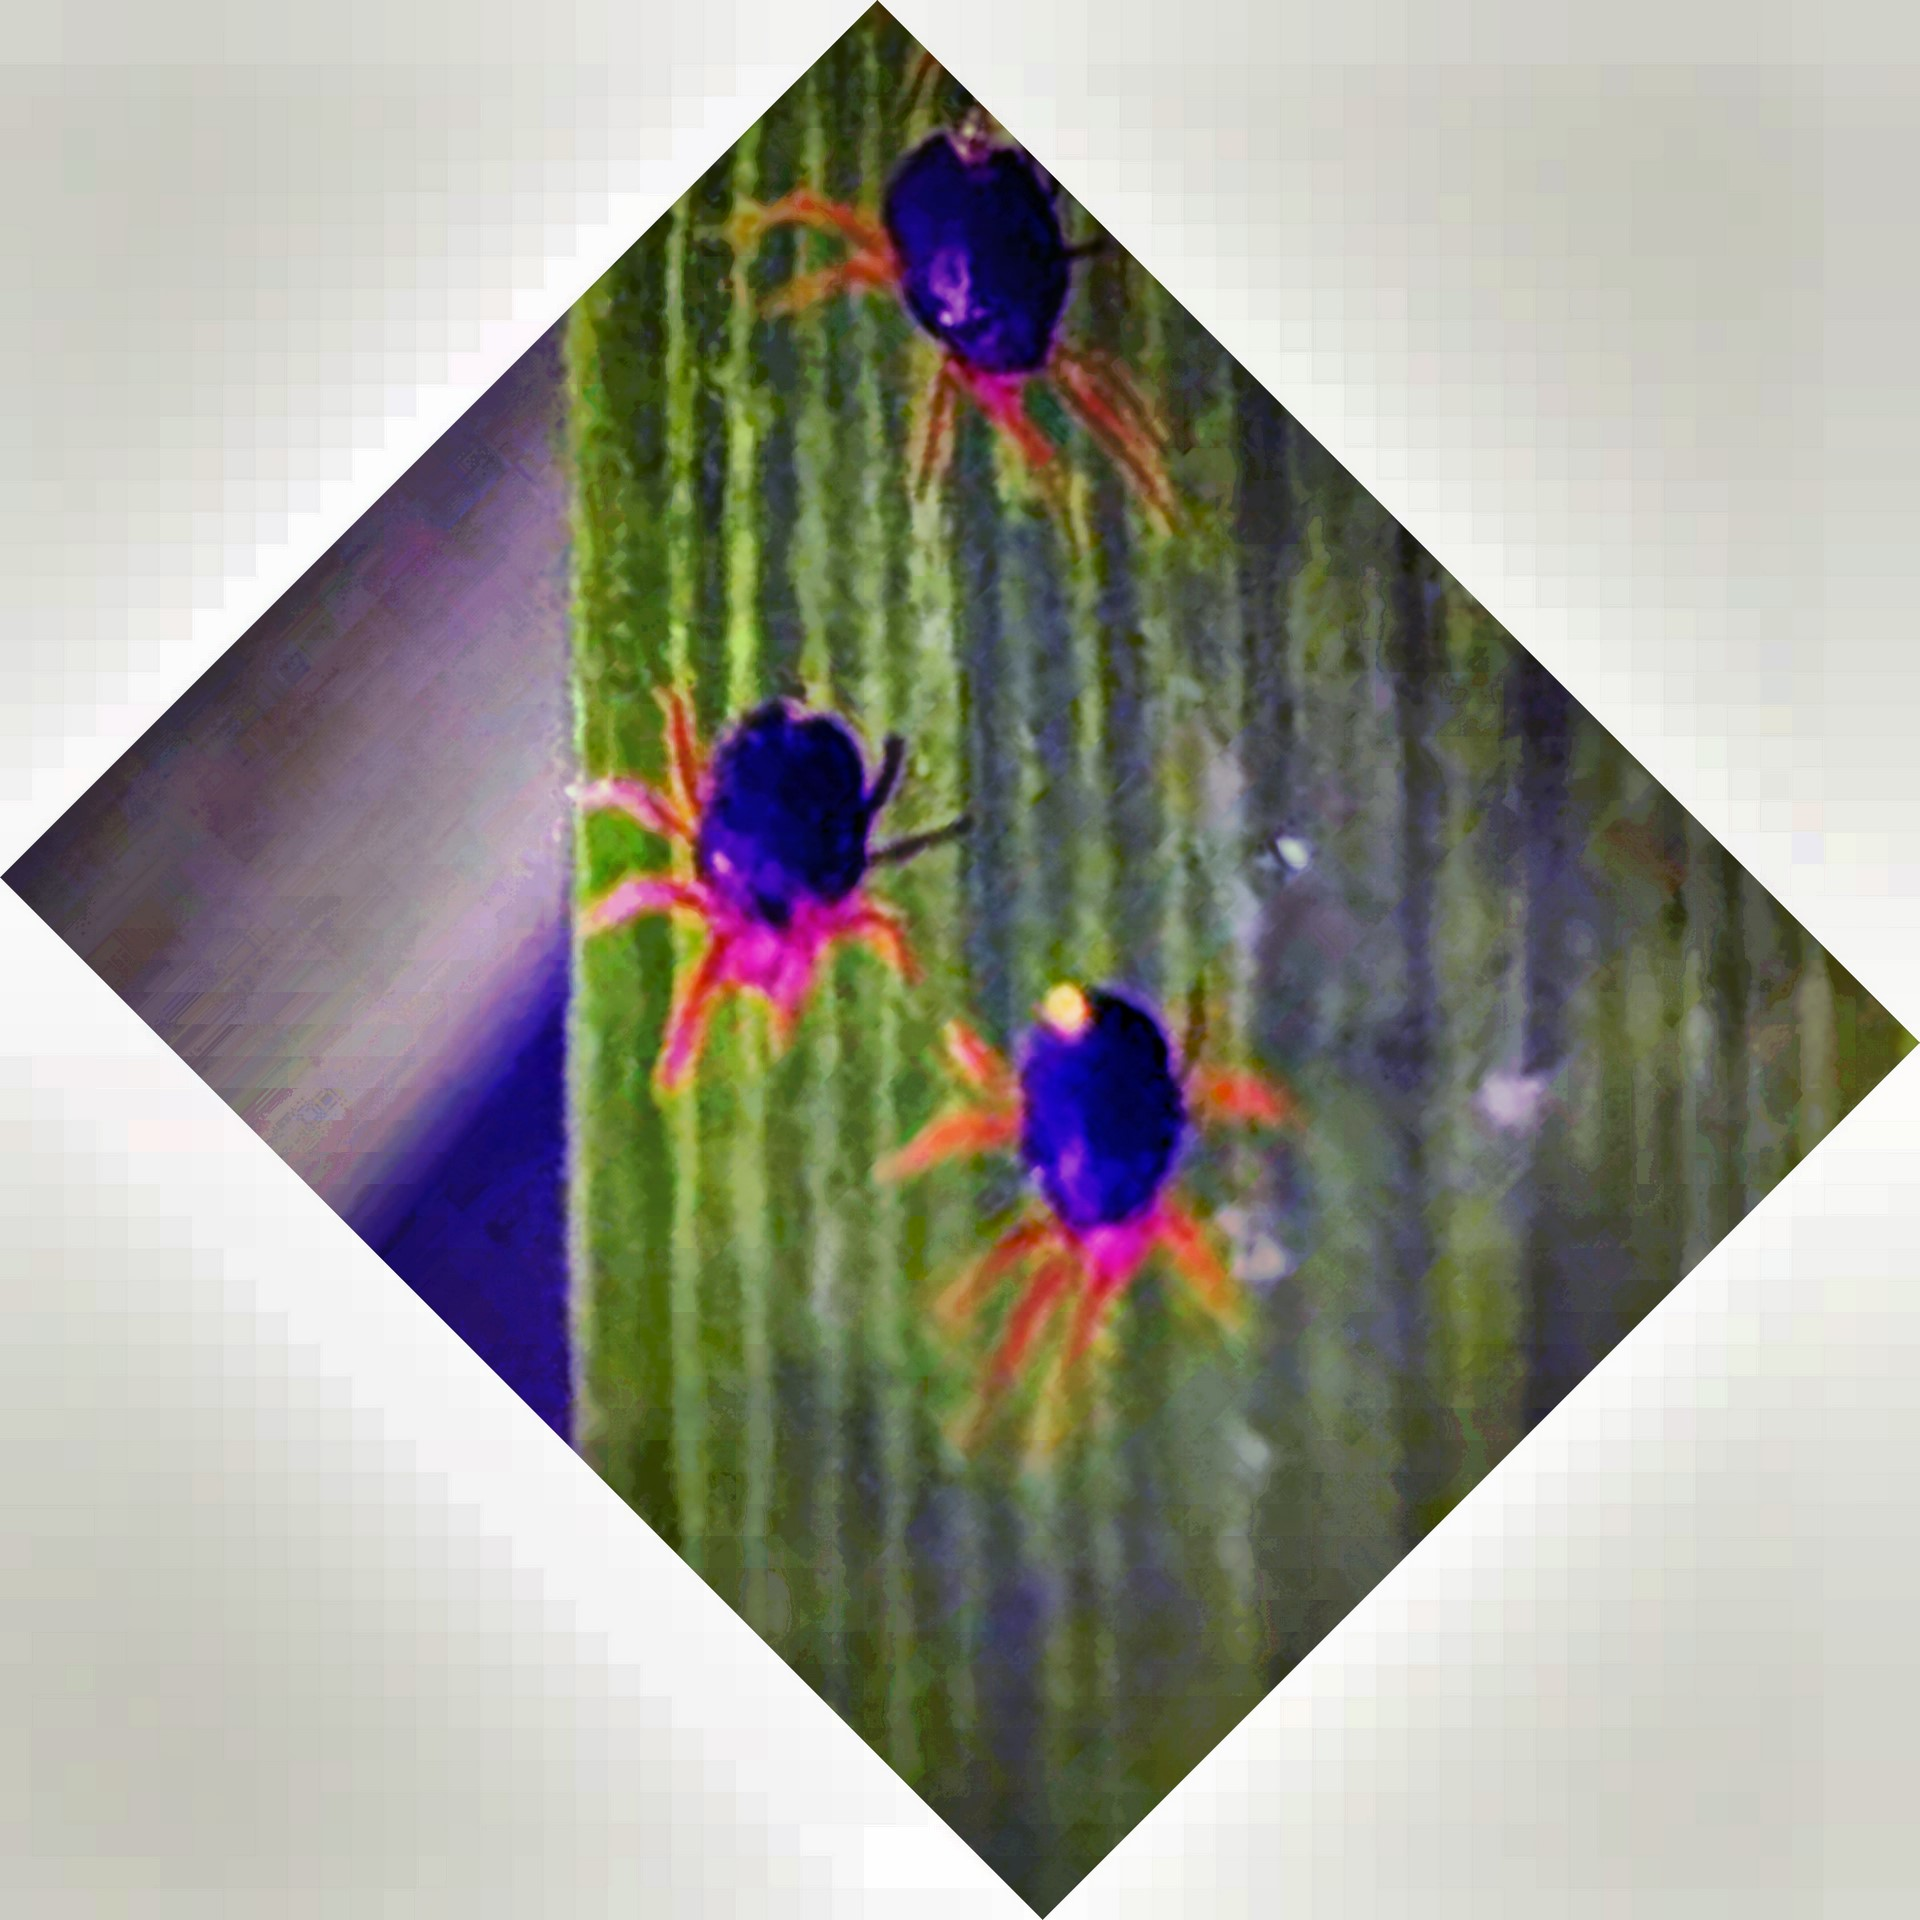Wheat Red Spider: (533, 594, 951, 1092)
